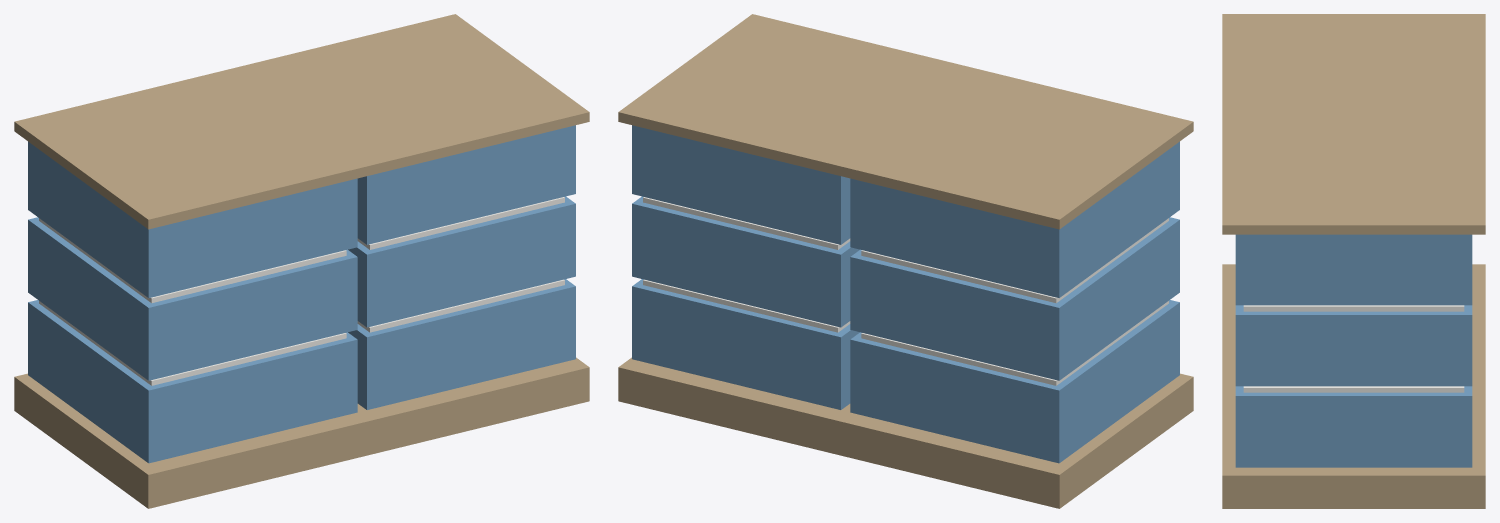
Rendered from dm_foodstack.glb.
3 views of the same model, side by side, from view 1: azimuth 30°, elevation 25°; view 2: azimuth 150°, elevation 25°; view 3: azimuth 270°, elevation 25° (orthographic).
Parts seen in each view (by area): view 1: dm_foodstack; view 2: dm_foodstack; view 3: dm_foodstack.
Part boxes in pixels (x1,y1,x2,y2): dm_foodstack: (14,14,589,508); dm_foodstack: (618,14,1193,508); dm_foodstack: (1222,14,1485,508).
Bounding box in the file's own units: 1.9 × 1.19 × 1.
